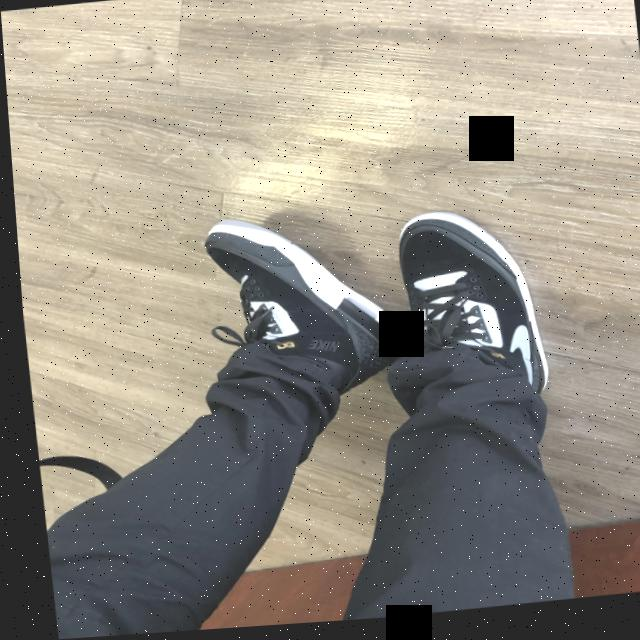shoes: (355, 195, 579, 435), (180, 197, 412, 418)
